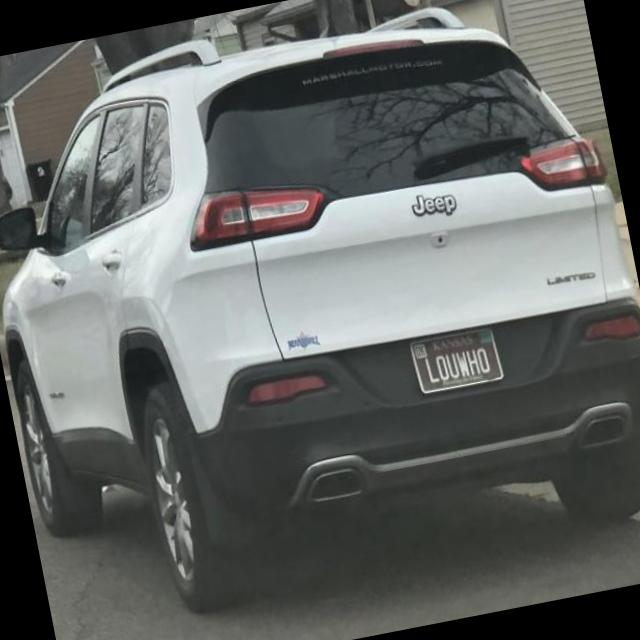LicensePlate: (408, 325, 505, 396)
